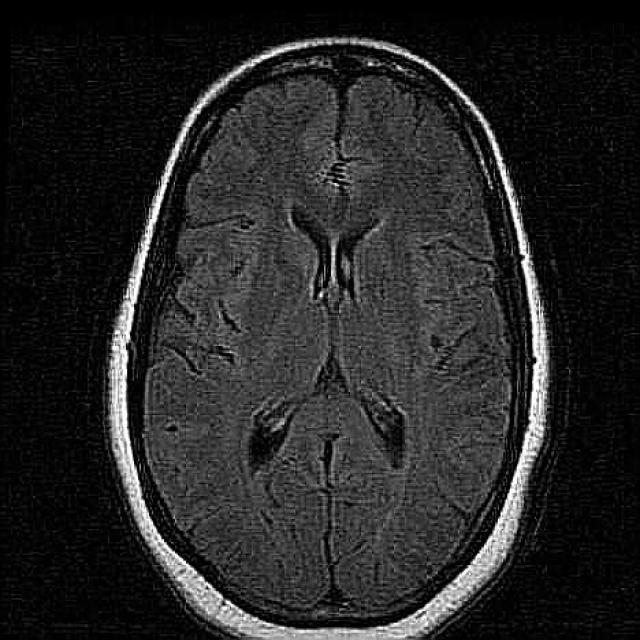notumor: (104, 37, 552, 639)
